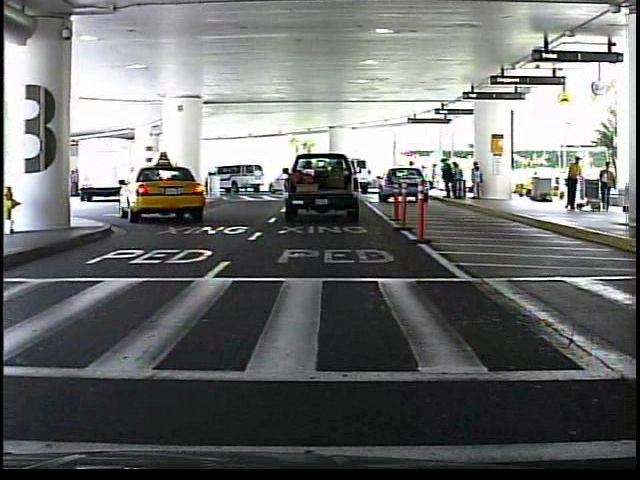person: (561, 154, 586, 214), (597, 158, 619, 213), (405, 158, 420, 193)
